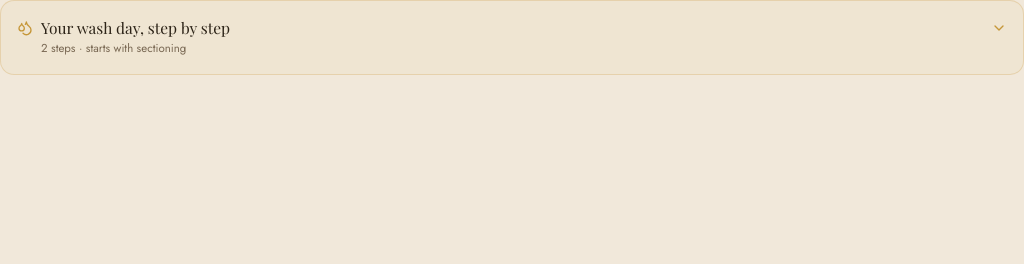
wash day steps card › level 3 shows titles, instruction and why
Step 1. Click the button "Your wash day, step by step 2 steps · starts with sectioning" → (136, 28), box [17,17,1007,58]
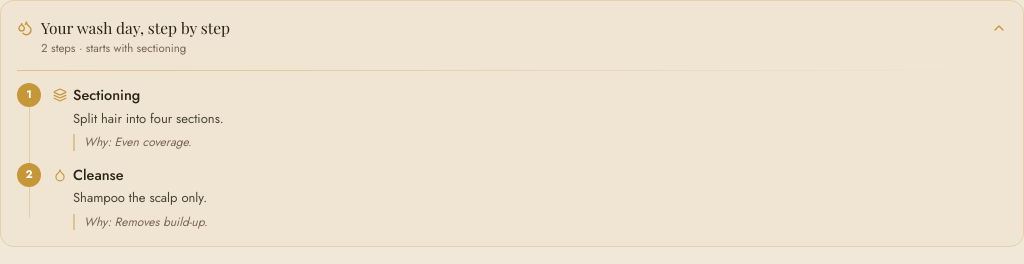
Result: the text "Sectioning" is shown at [73,84,140,105]
Result: the text "Split hair into four sections." is shown at [73,108,224,128]
Result: the text "Even coverage." is shown at [115,133,192,151]
